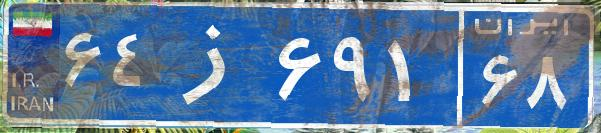1: (385, 28, 445, 110)
4: (110, 28, 158, 105)
6: (273, 28, 330, 110), (57, 26, 110, 107), (475, 38, 525, 113)
8: (525, 38, 570, 115)
9: (330, 28, 385, 110)
ز: (158, 15, 273, 115)
